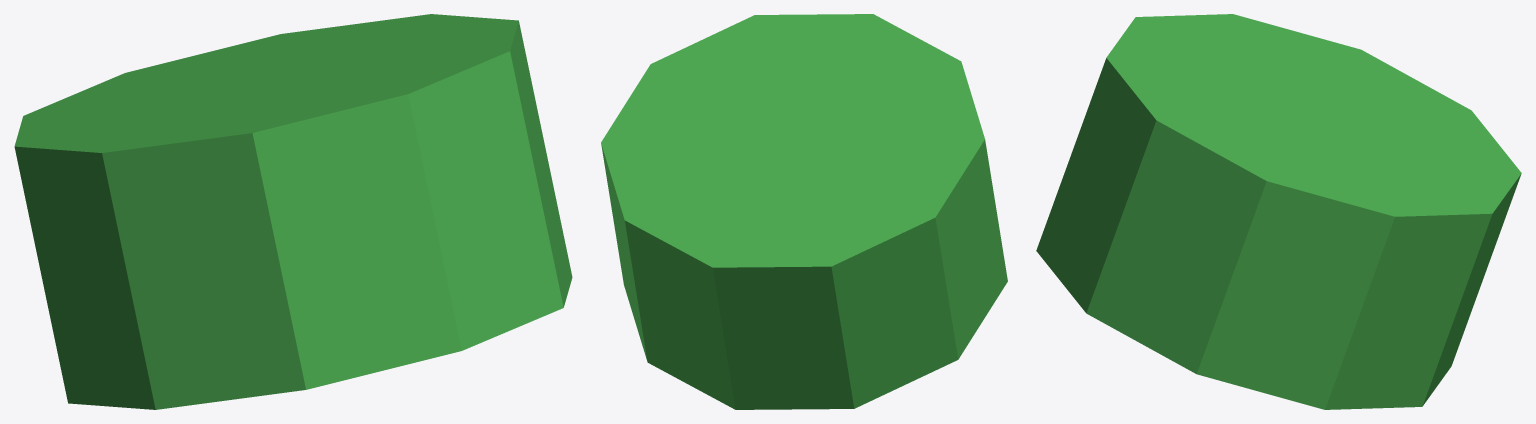
File: group8551622_lev3.002.glb
3 renders of one model, left to right at view 1: azimuth 30°, elevation 25°; view 2: azimuth 150°, elevation 25°; view 3: azimuth 270°, elevation 25°, orthographic. The views are drawn at different scales.
Parts seen in each view (by area): view 1: group8551622_lev3.002; view 2: group8551622_lev3.002; view 3: group8551622_lev3.002.
Boxes of the visible parts, bbox=[...] form: group8551622_lev3.002: bbox=[14, 14, 572, 409]; group8551622_lev3.002: bbox=[601, 14, 1007, 409]; group8551622_lev3.002: bbox=[1036, 14, 1521, 409].
Size of the model in its own units: 0.5457 by 0.4368 by 0.6065.
